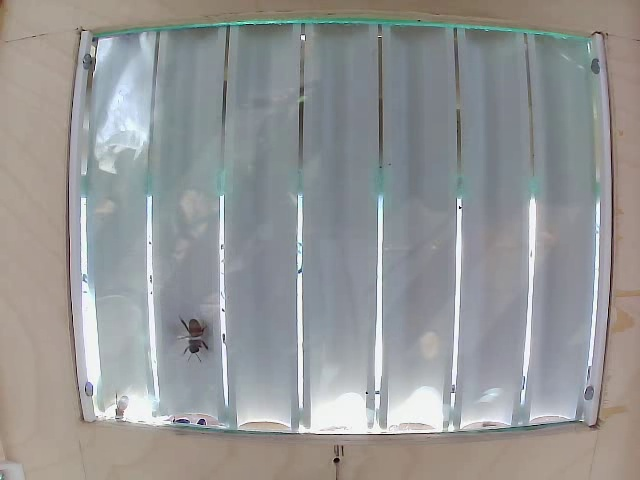bee: (177, 306, 208, 360)
